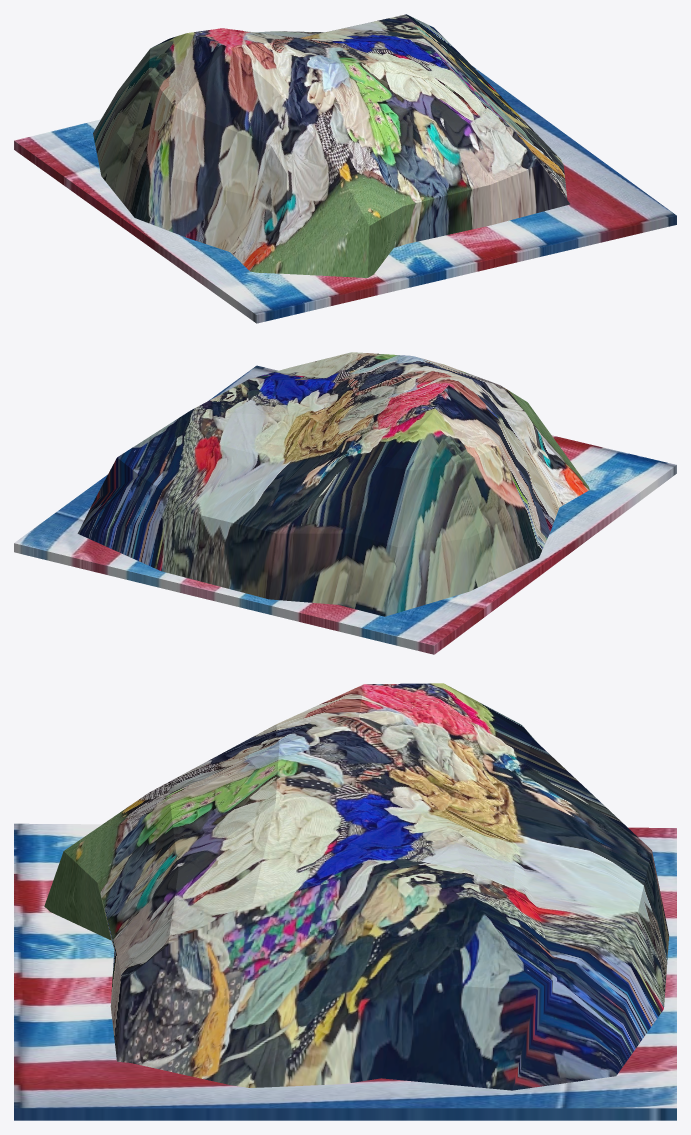
File: clothes-pile.fbx
3 views of the same model, one above another, from view 1: azimuth 30°, elevation 25°; view 2: azimuth 150°, elevation 25°; view 3: azimuth 270°, elevation 25° (orthographic). The views are drawn at different scales.
Visible parts, largest first — view 1: Cube; view 2: Cube; view 3: Cube.
Part boxes in pixels (x1,y1,x2,y2): Cube: [14, 14, 676, 323]; Cube: [14, 352, 676, 654]; Cube: [14, 683, 676, 1120].
Size of the model in its own units: 1624 by 601 by 1624.
2 materials, 2 textured.
